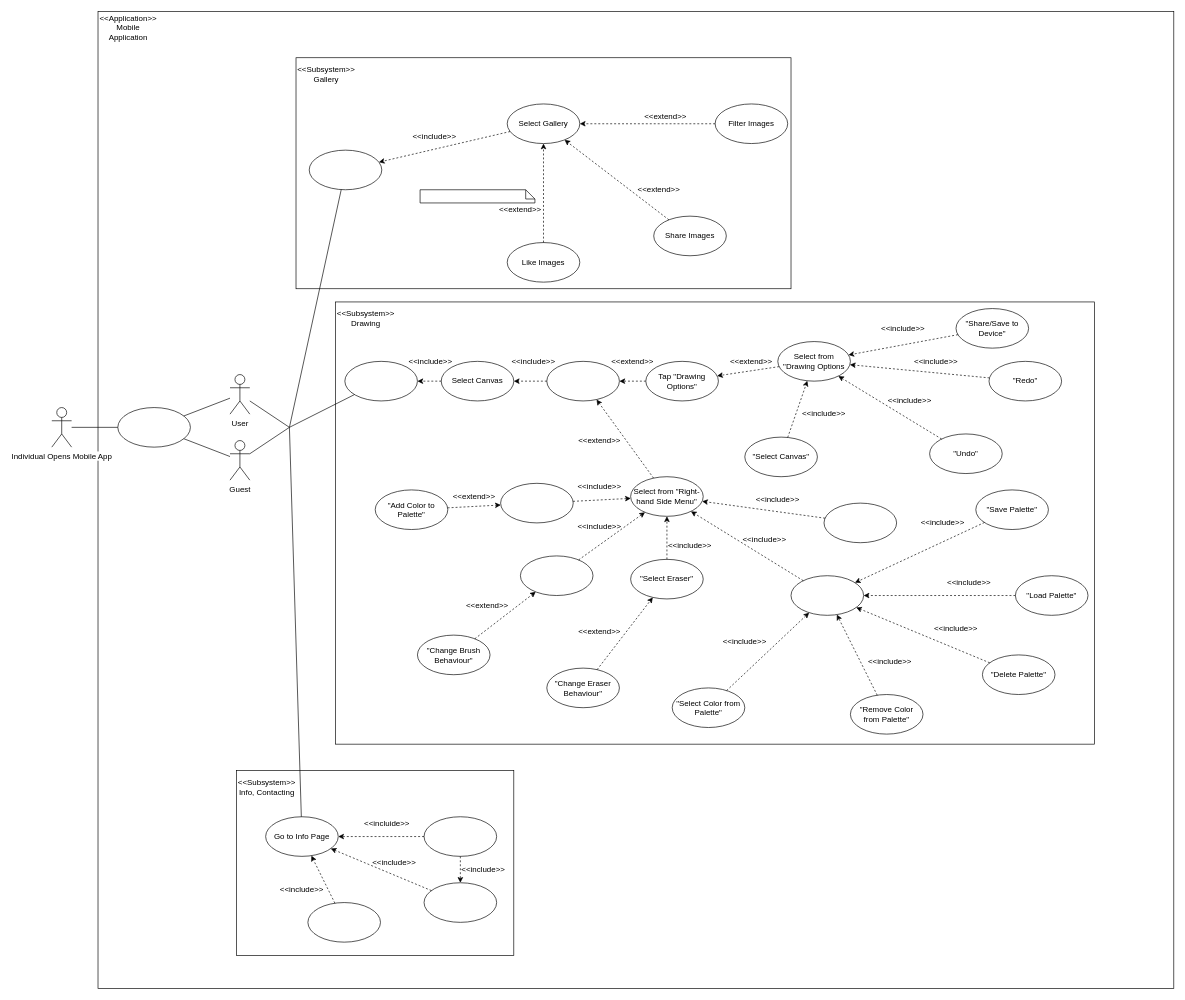
The diagram is 1185 pixels wide and 1000 high, and some of its shapes have lost their labels. The shapes that lost their labels are listed below. From the top down, each one's centre as x and y in pixels, then its label:
[345,169]: Go to Galleries
[477,196]: Condition: { Actor is "User" }
[380,381]: Go to Drawing Screen
[582,381]: Draw
[153,427]: Sign In or Continue as Guest
[536,503]: "Select Color"
[860,522]: "Save Canvas"
[556,575]: "Select Brush"
[827,595]: "Select Color Palette"
[460,836]: "Apply to Become an Artist"
[343,922]: "Go to Contacts Webpage"
[460,902]: "Go to Website"
